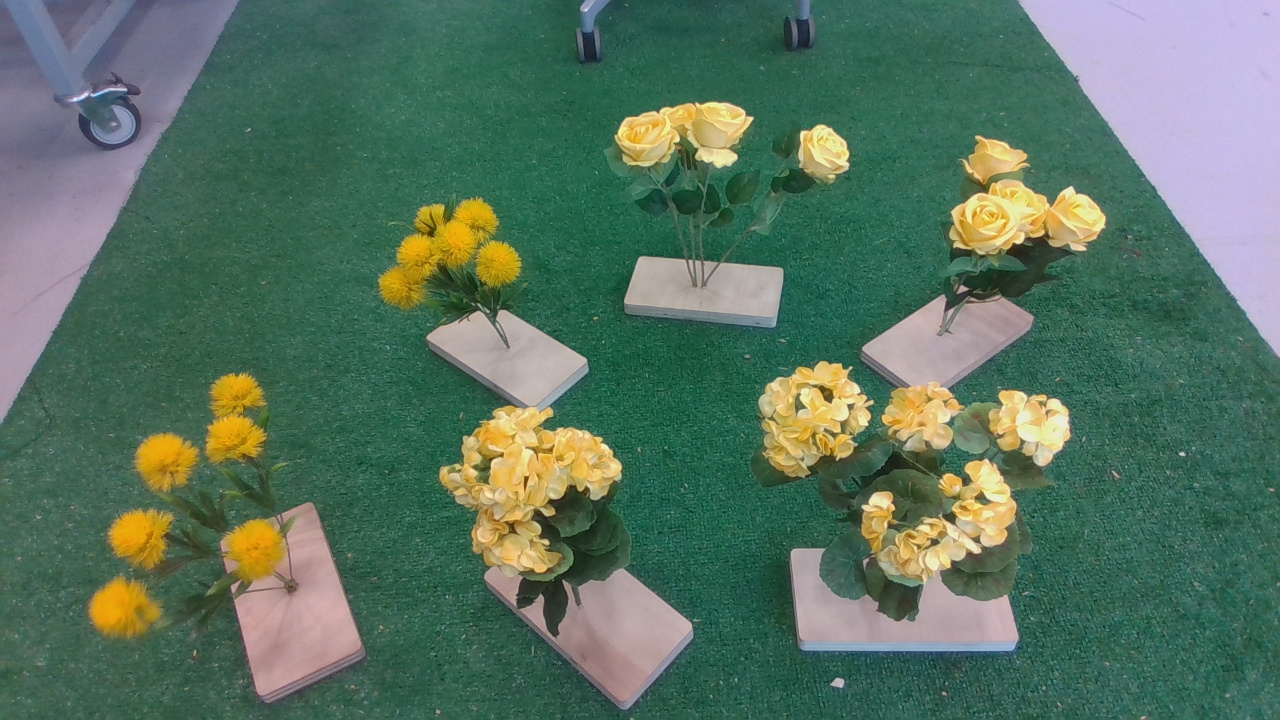dandelion: (84, 365, 305, 655), (375, 192, 542, 332)
geranium: (756, 353, 1079, 629), (436, 407, 643, 639)
rose: (584, 102, 860, 249), (937, 135, 1116, 316)
